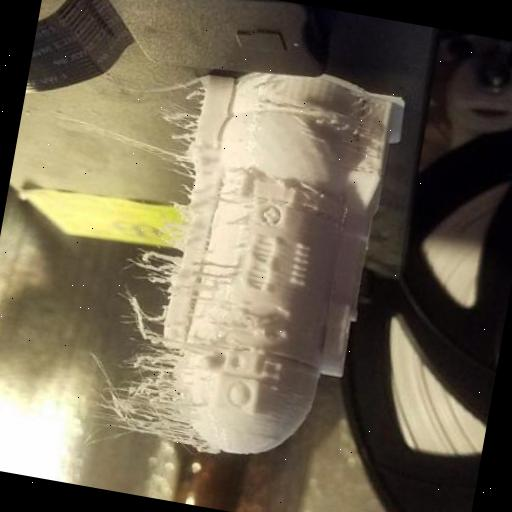spaghetti: (78, 64, 280, 466), (292, 82, 394, 180)
